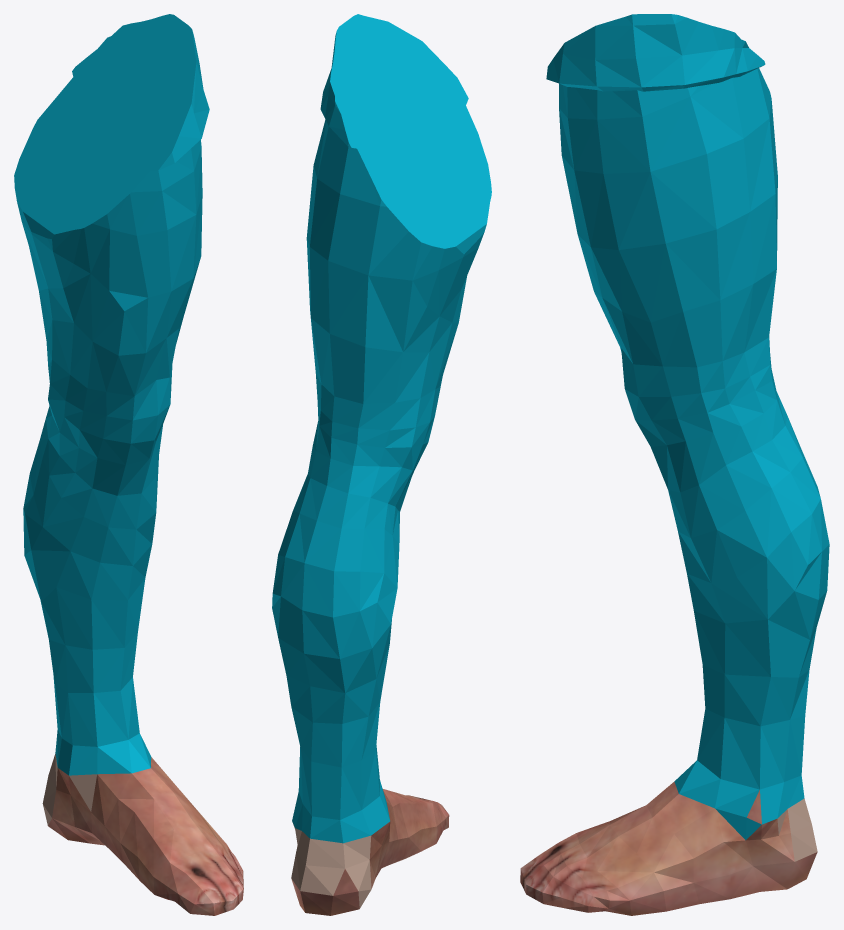
Rendered from piedd.glb.
3 renders of one model, left to right at view 1: azimuth 30°, elevation 25°; view 2: azimuth 150°, elevation 25°; view 3: azimuth 270°, elevation 25°, orthographic. The views are drawn at different scales.
Bounding box in the file's own units: 0.2228 × 1.08 × 0.339.
2 materials, 1 textured.
